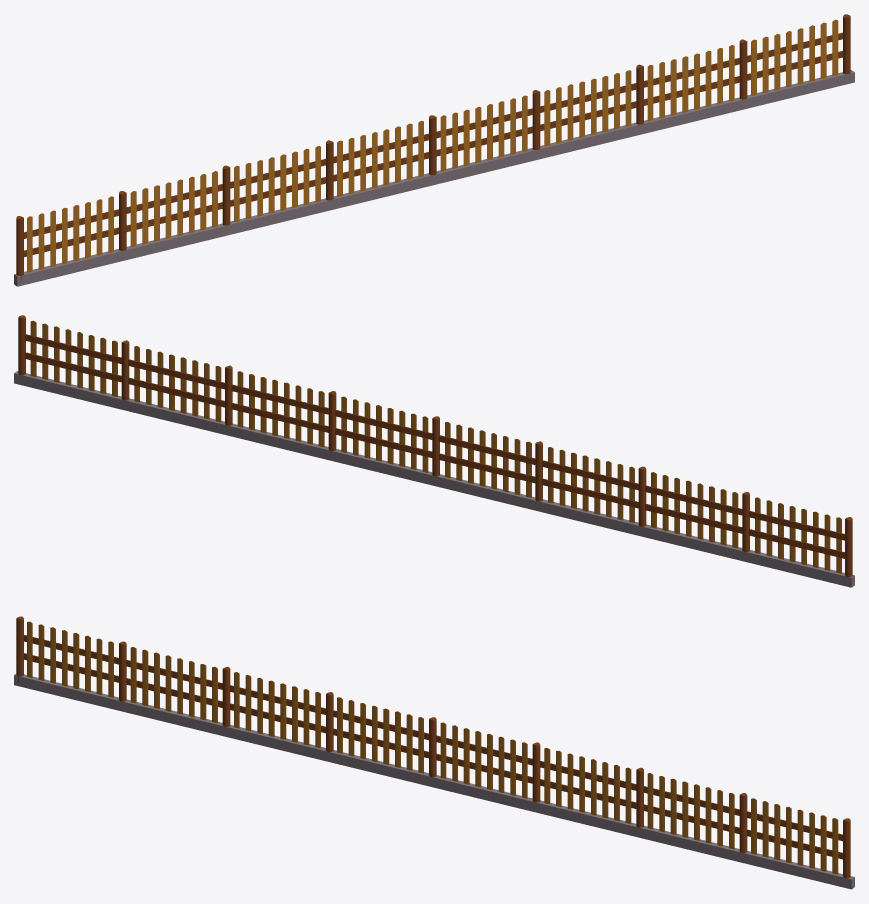
File: fence3.fbx
The picture shows the model from 3 angles, top to bottom: view 1: azimuth 30°, elevation 25°; view 2: azimuth 150°, elevation 25°; view 3: azimuth 330°, elevation 25°; orthographic projection.
Parts seen in each view (by area): view 1: 立方体.001; view 2: 立方体.001; view 3: 立方体.001.
Boxes of the visible parts, x1,y1,x2,y2 form: 立方体.001: (14,14,854,286); 立方体.001: (14,315,854,587); 立方体.001: (14,616,854,889).
Size of the model in its own units: 1443 by 111 by 10.04.
